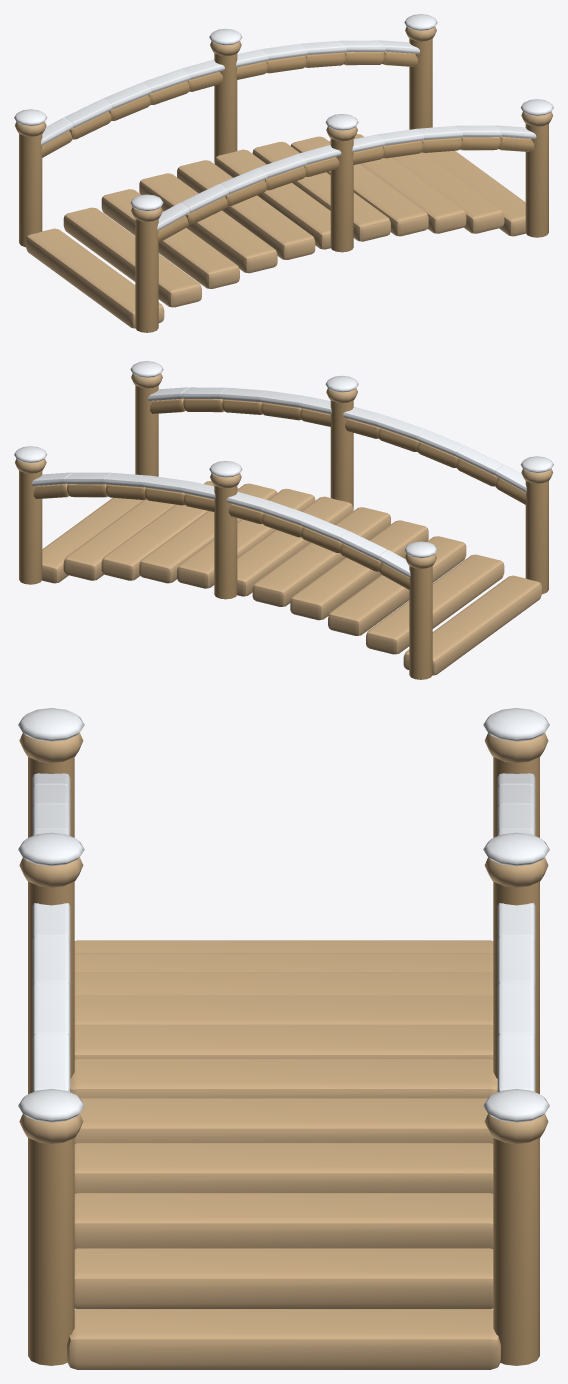
File: bridge_winter_v1.glb
3 views of the same model, one above another, from view 1: azimuth 30°, elevation 25°; view 2: azimuth 150°, elevation 25°; view 3: azimuth 270°, elevation 25° (orthographic). The views are drawn at different scales.
Size of the model in its own units: 3.33 by 1.27 by 1.83.
